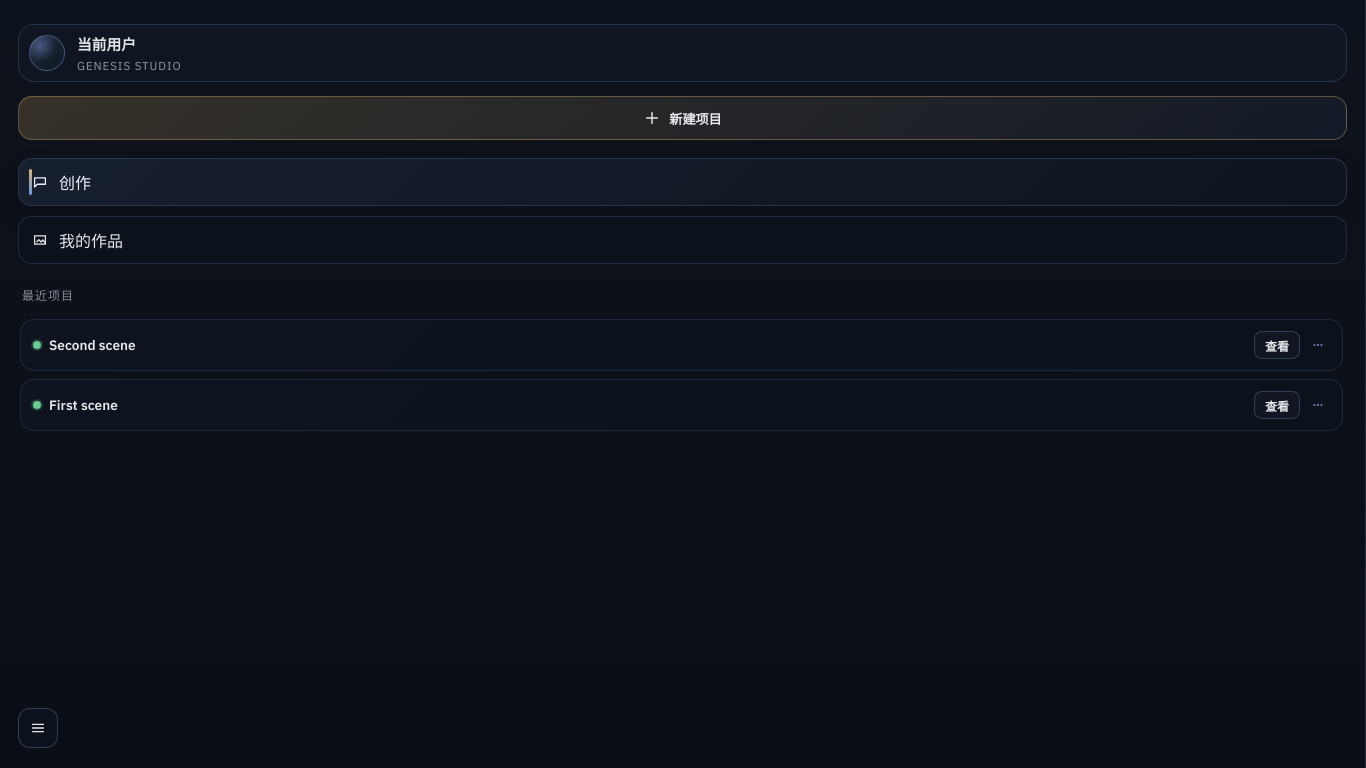
Test case: AppSidebar › dismisses the first session menu on outside click
Step 1. Click the 1st button named "更多操作" → x=1318, y=345, box left=1306, top=333, right=1330, bottom=357
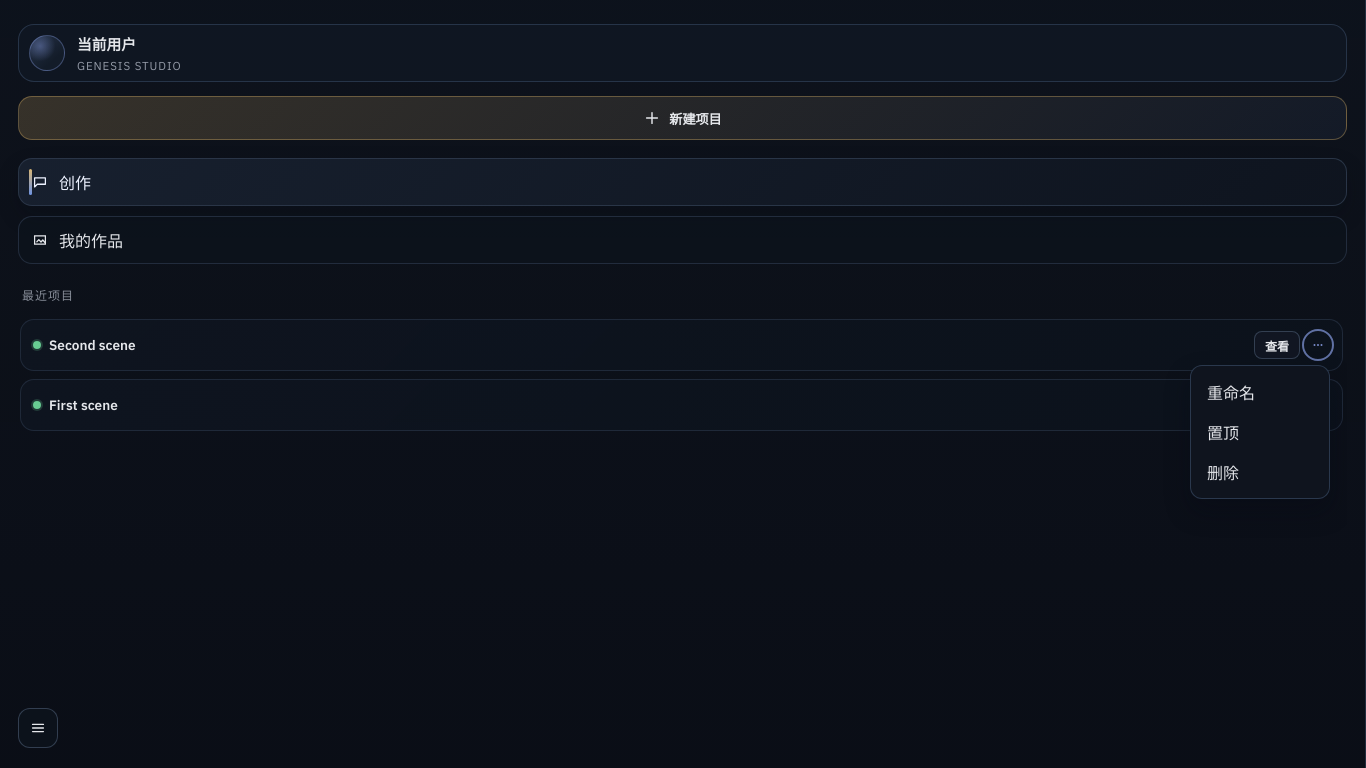
Result: the menu with class "open" is shown at left=1190, top=365, right=1330, bottom=499
Step 2. Click the element that starts with "当前用户" → x=683, y=384, box left=0, top=0, right=1365, bottom=767
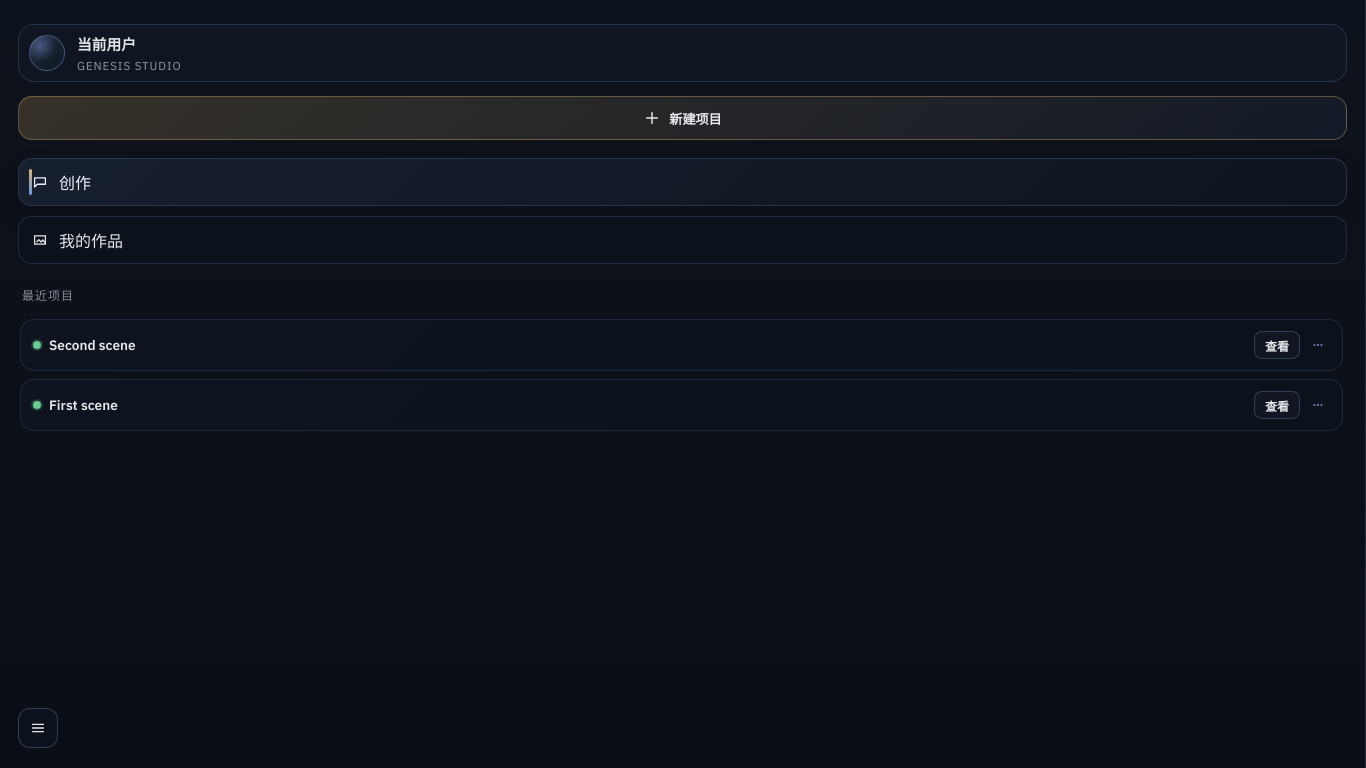
Result: the menu with class "open" is gone
